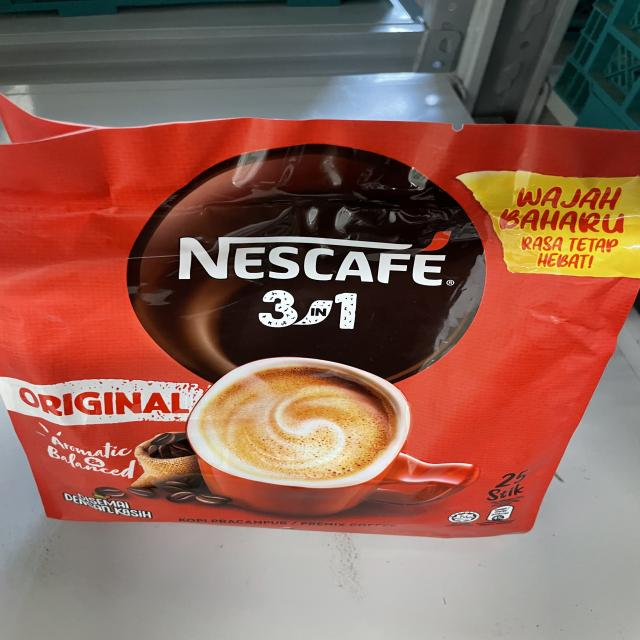object_name: (3, 109, 640, 542)
